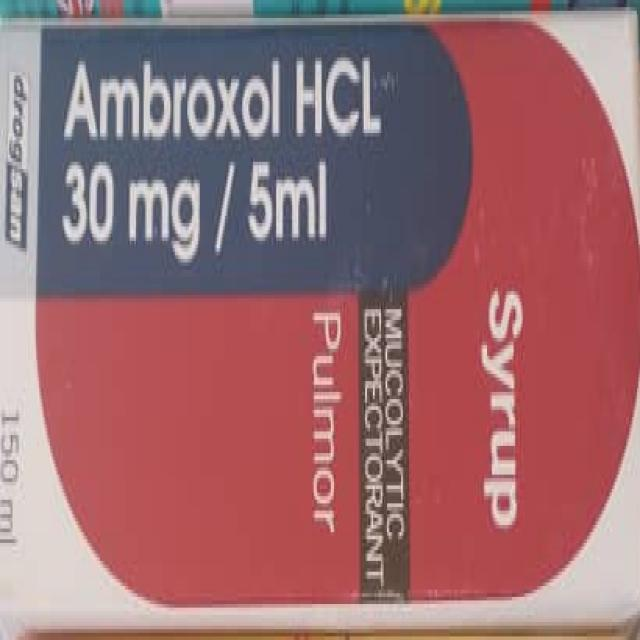drug-name: (306, 307, 344, 537)
